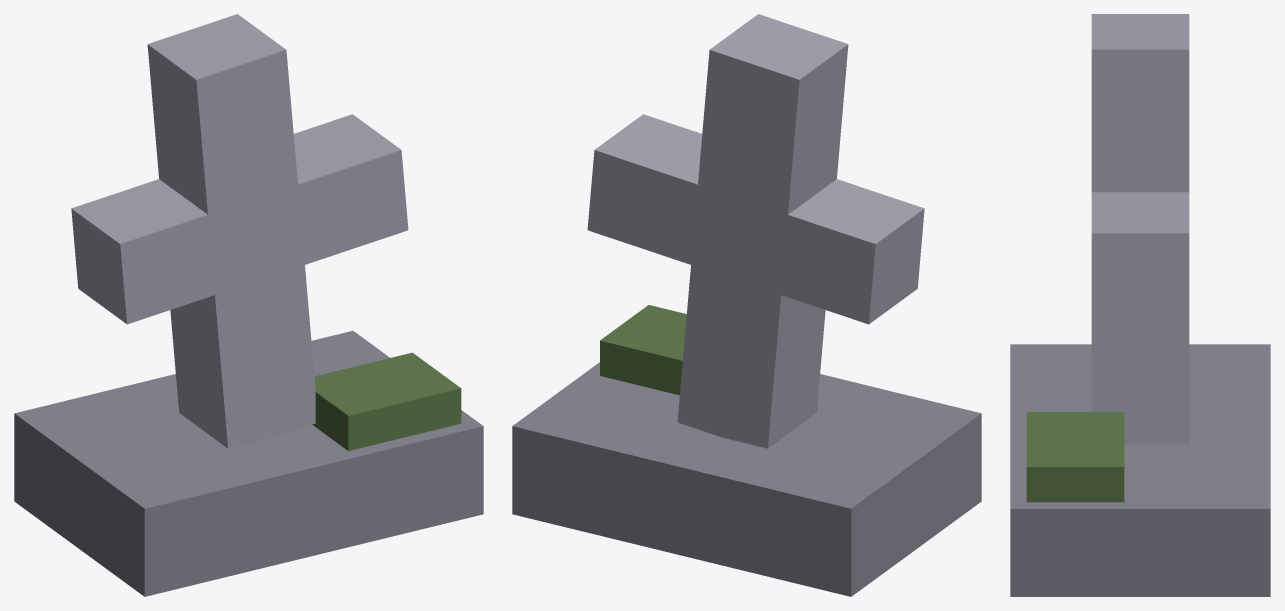
The model's file is env_r4_tombstone_cross.glb.
3 views of the same model, side by side, from view 1: azimuth 30°, elevation 25°; view 2: azimuth 150°, elevation 25°; view 3: azimuth 270°, elevation 25° (orthographic).
Visible parts, largest first — view 1: env_r4_tombstone_cross; view 2: env_r4_tombstone_cross; view 3: env_r4_tombstone_cross.
Boxes of the visible parts, x1,y1,x2,y2 form: env_r4_tombstone_cross: (14,14,483,596); env_r4_tombstone_cross: (512,14,981,596); env_r4_tombstone_cross: (1010,14,1270,596).
Bounding box in the file's own units: 1.2 × 1.6 × 0.8.
Materials: 1 (1 with a texture image).
